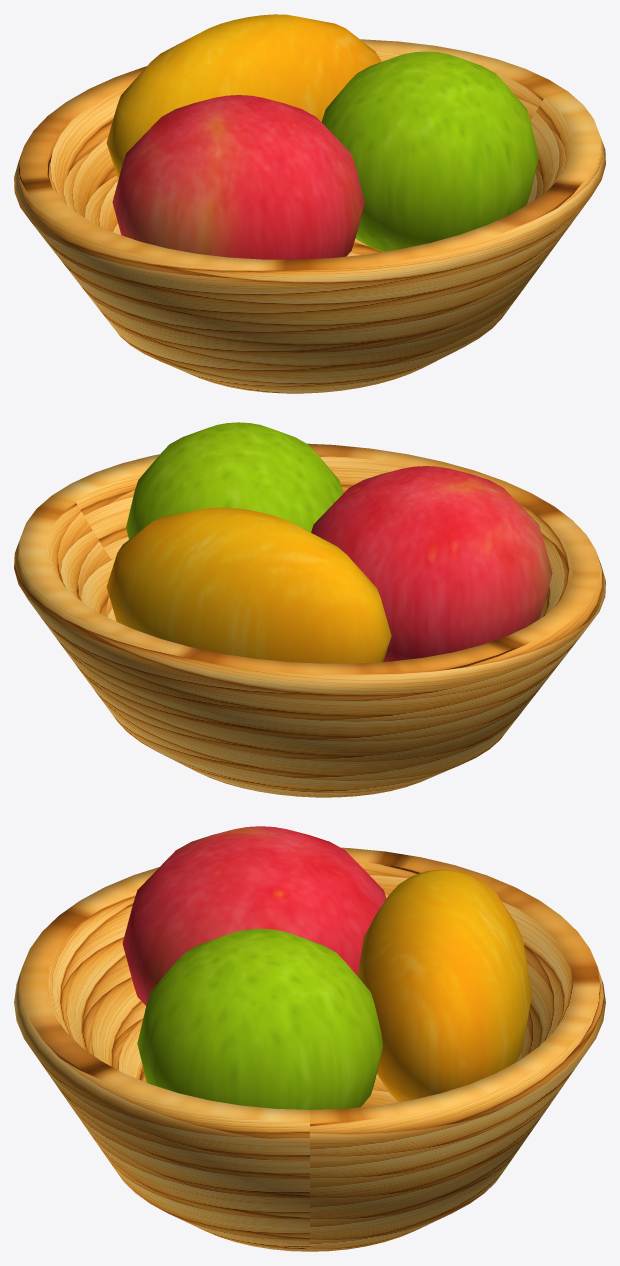
File: fruit_bowl-BXdURyZr.glb
The picture shows the model from 3 angles, top to bottom: view 1: azimuth 30°, elevation 25°; view 2: azimuth 150°, elevation 25°; view 3: azimuth 270°, elevation 25°; orthographic projection. The views are drawn at different scales.
Parts seen in each view (by area): view 1: HI_fruit_bowl; view 2: HI_fruit_bowl; view 3: HI_fruit_bowl.
Part boxes in pixels (bbox=[...]): HI_fruit_bowl: bbox=[14, 14, 605, 393]; HI_fruit_bowl: bbox=[14, 422, 605, 797]; HI_fruit_bowl: bbox=[14, 826, 605, 1251].
Size of the model in its own units: 1.35 by 0.65 by 1.2.
1 material, 1 textured.
